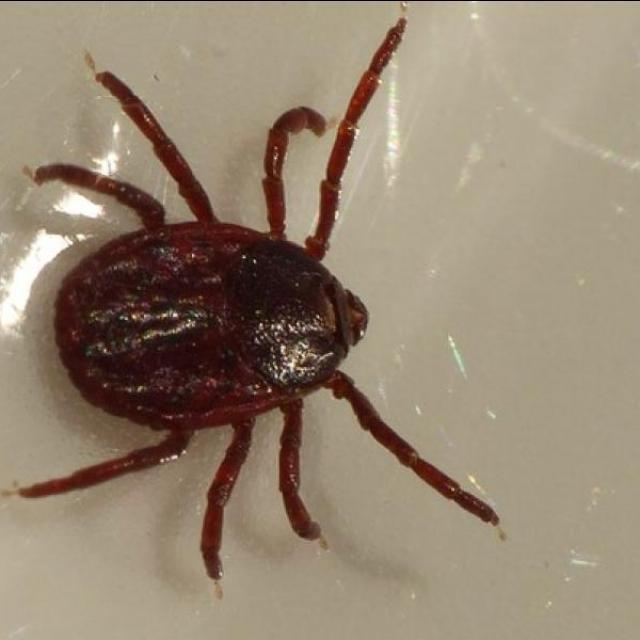Rhipicephalus Sanguineus-F: (14, 13, 497, 584)
